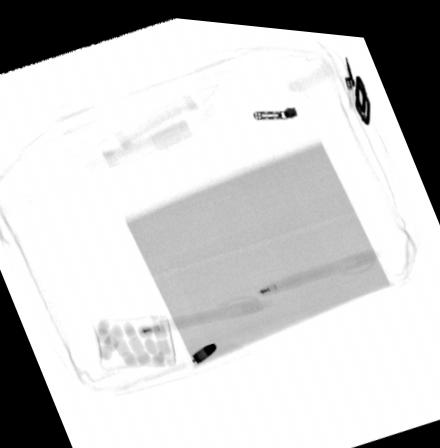Bullet: (191, 336, 219, 361)
